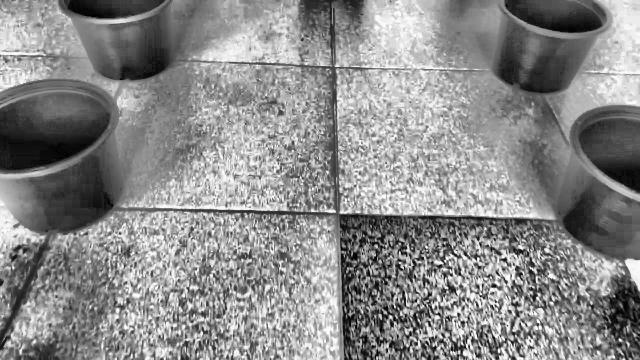pot: (0, 80, 124, 234), (556, 106, 640, 262), (492, 0, 613, 96), (56, 0, 174, 83)
